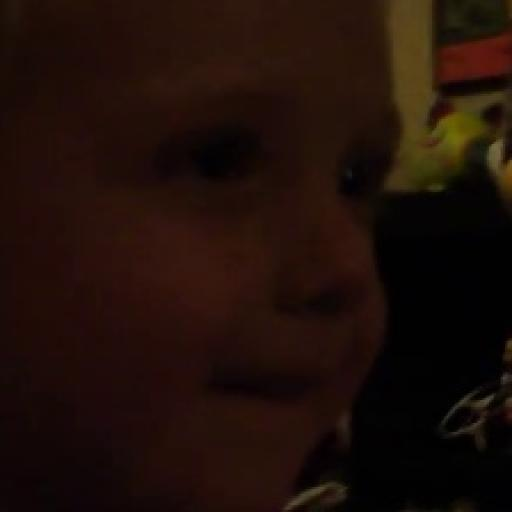Autism: (50, 5, 472, 512)
